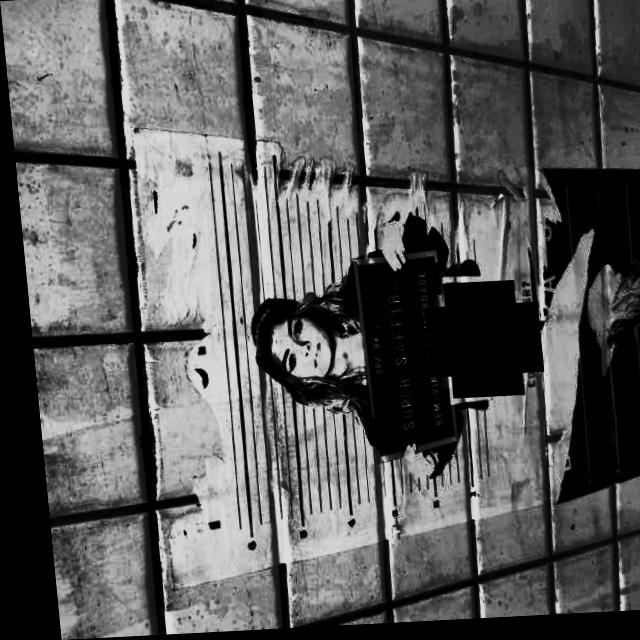qr_code: (427, 295, 526, 392)
